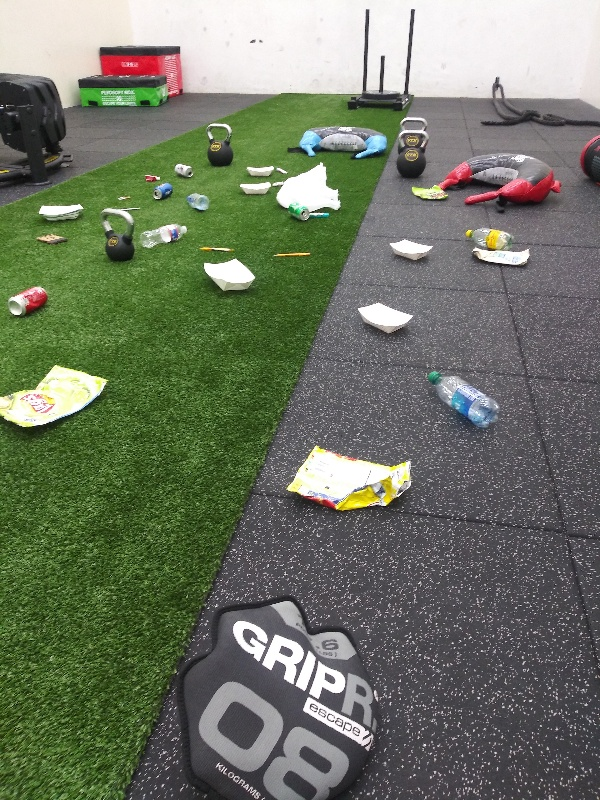bag: (286, 440, 419, 522), (1, 364, 110, 437), (465, 243, 532, 268), (404, 181, 449, 205)
bottle: (422, 368, 504, 430), (462, 225, 521, 254), (137, 223, 192, 250), (183, 192, 212, 211)
can: (5, 283, 52, 320), (281, 201, 313, 223), (168, 159, 196, 183), (147, 182, 177, 204)
plate: (197, 256, 260, 297), (353, 302, 419, 338), (385, 237, 438, 265), (33, 199, 86, 225), (233, 180, 272, 198), (241, 161, 281, 177)
